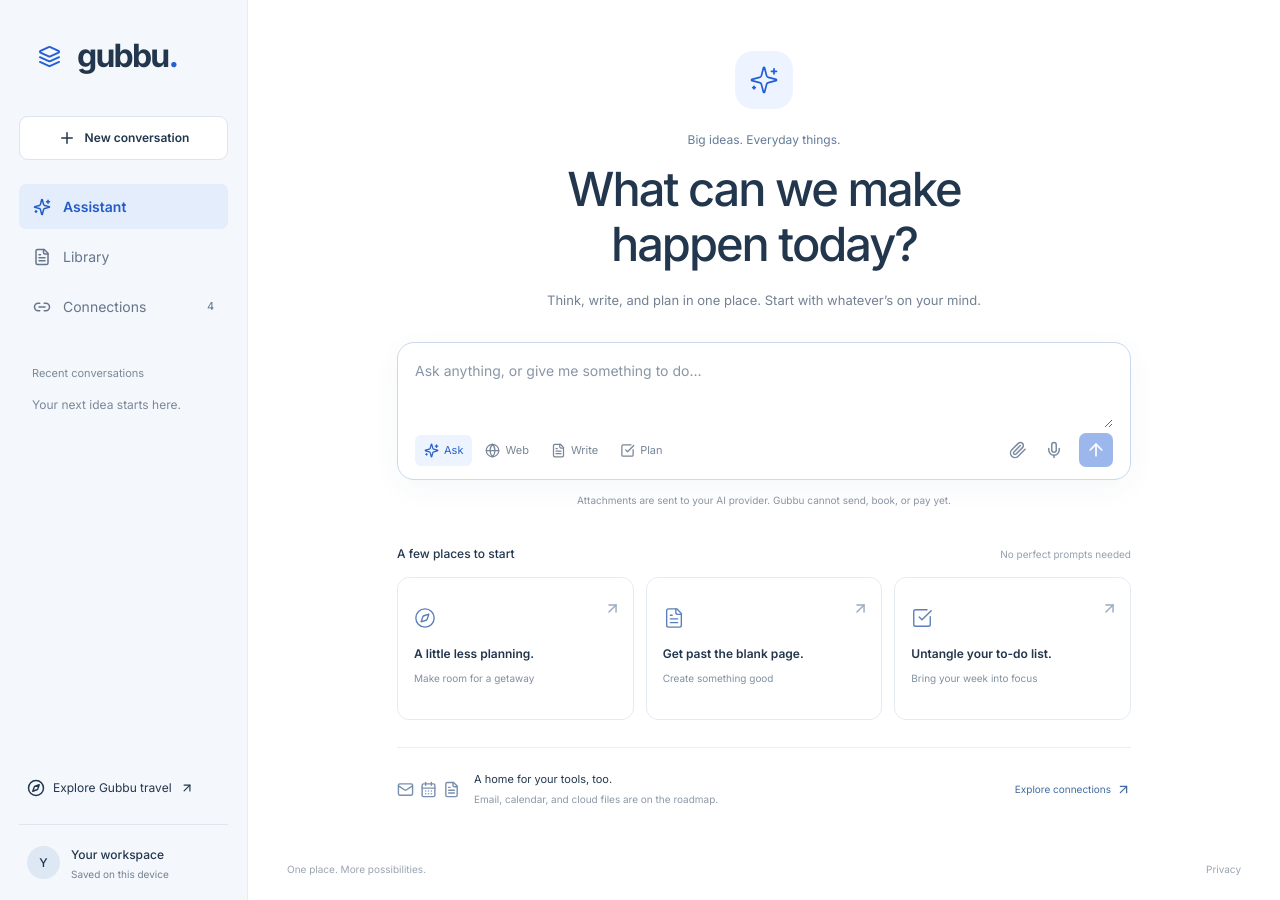
restores failed requests for retry without duplicating messages
This screenshot has width=1280, height=900.
(page scrolled)
Step 1. Type "Help me plan" into the text box named "Ask Gubbu" → (764, 394), box [415, 360, 1113, 428]
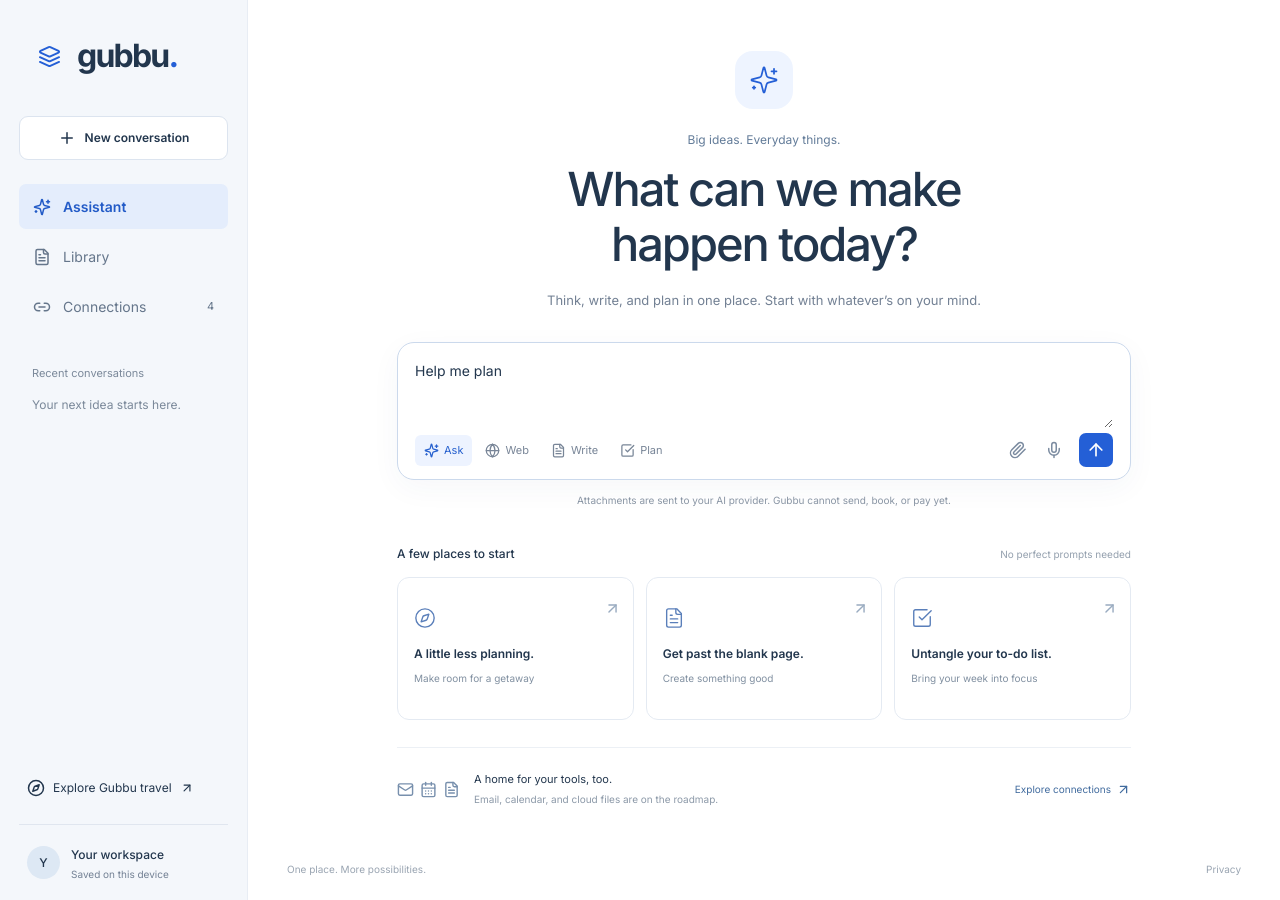
Step 2. Click the button named "Send request" → (1096, 450), box [1079, 433, 1113, 467]
(page scrolled)
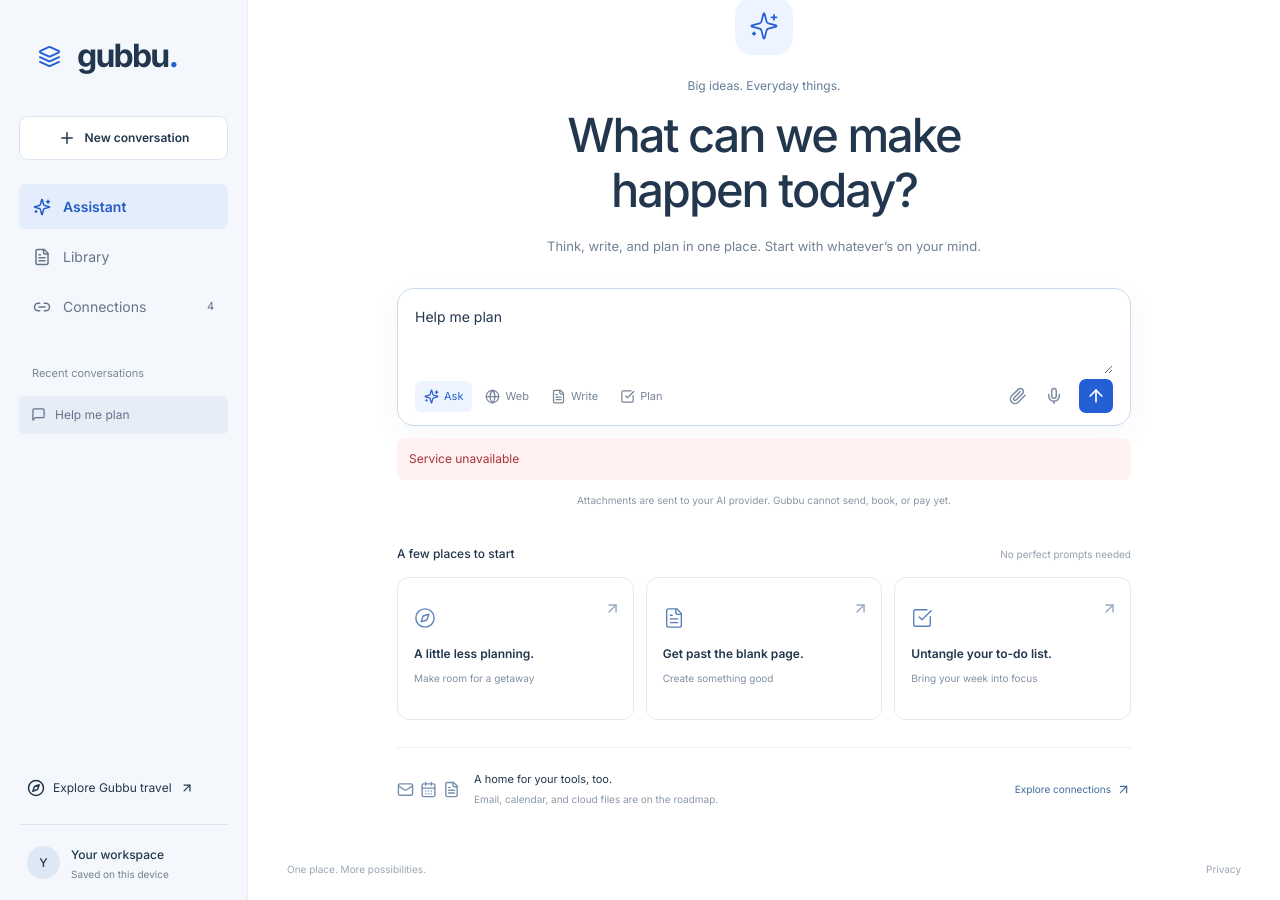
Expected: the message reads "Service unavailable", [409, 451, 519, 466]
